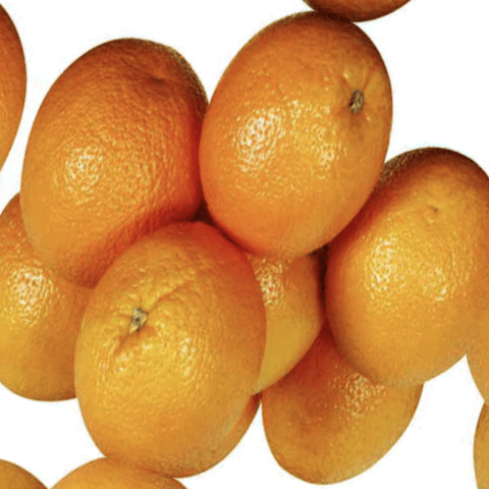orange: (0, 8, 253, 327), (170, 0, 433, 287), (33, 206, 299, 489), (301, 131, 489, 422)
